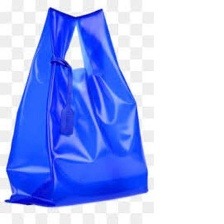plastic_bag: (0, 0, 151, 208)
